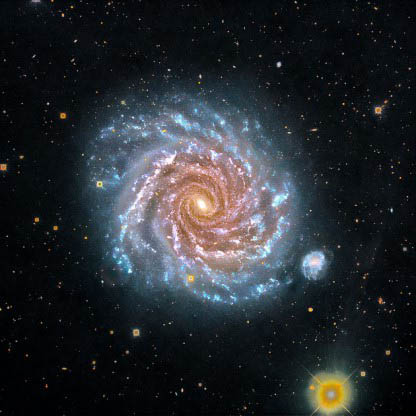NGC 1232: (67, 75, 344, 326)
